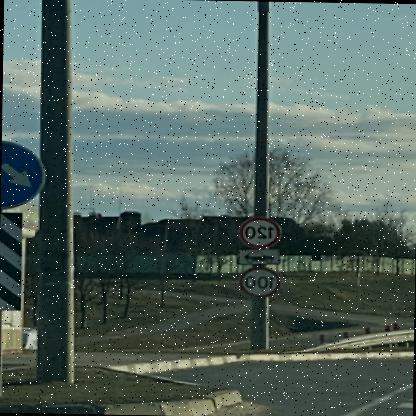speedlimit: (240, 214, 283, 246), (242, 264, 284, 296)
